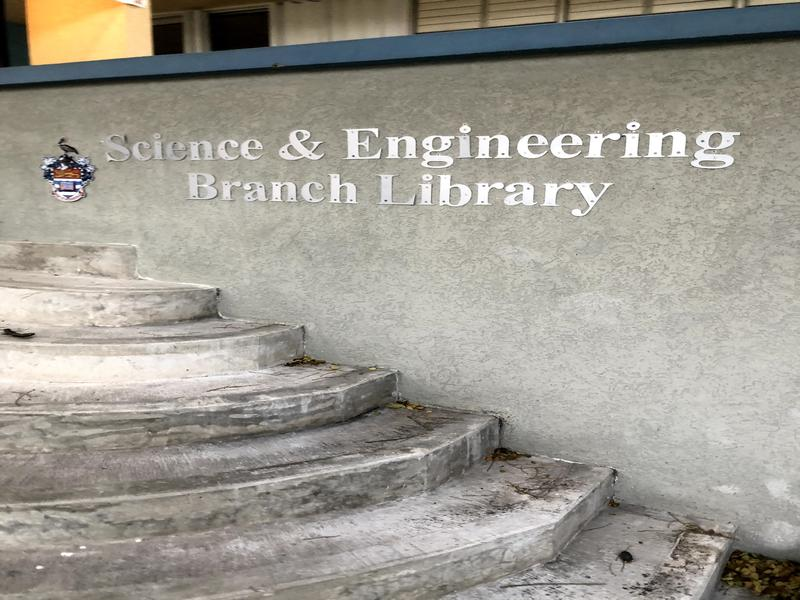18.0053644_-76.7493880_librarysign: (99, 116, 764, 227)
